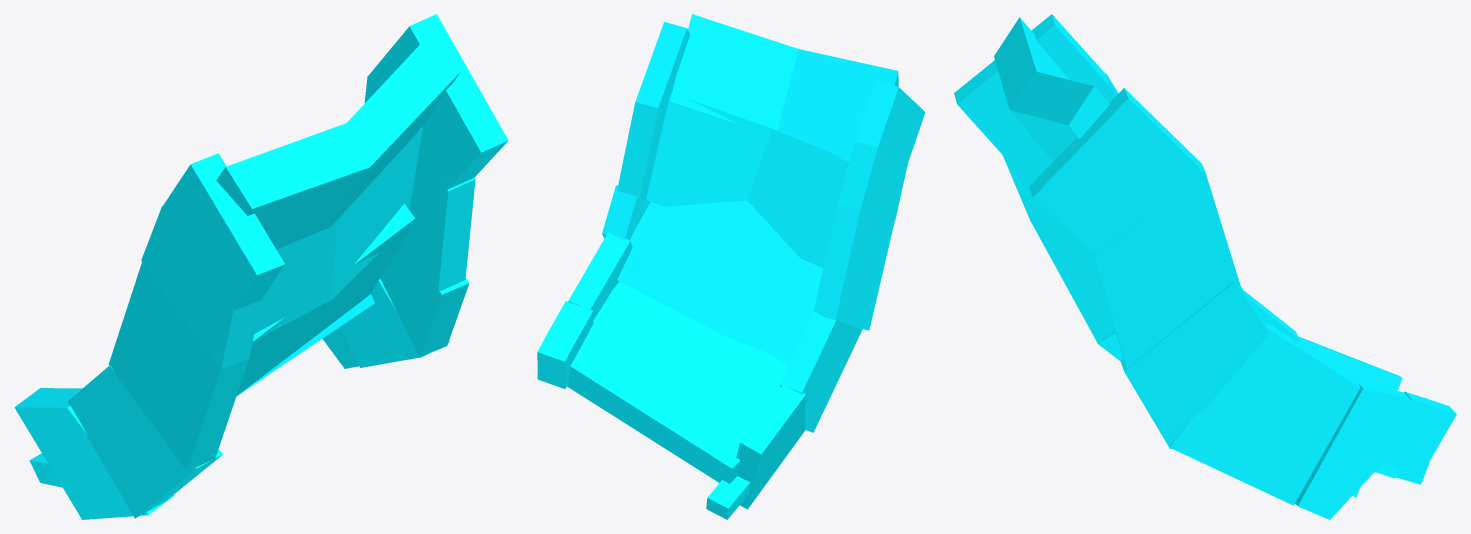
Rendered from SM_Bld_Bridge_End_02_Collision.fbx.
The picture shows the model from 3 angles, left to right: view 1: azimuth 30°, elevation 25°; view 2: azimuth 150°, elevation 25°; view 3: azimuth 270°, elevation 25°; orthographic projection. The views are drawn at different scales.
Parts seen in each view (by area): view 1: SM_Bld_Bridge_End_02_Collision; view 2: SM_Bld_Bridge_End_02_Collision; view 3: SM_Bld_Bridge_End_02_Collision.
Boxes of the visible parts, x1,y1,x2,y2 form: SM_Bld_Bridge_End_02_Collision: (14,14,508,519); SM_Bld_Bridge_End_02_Collision: (537,14,925,519); SM_Bld_Bridge_End_02_Collision: (954,14,1456,519).
Bounding box in the file's own units: 2327 × 3579 × 3210.
